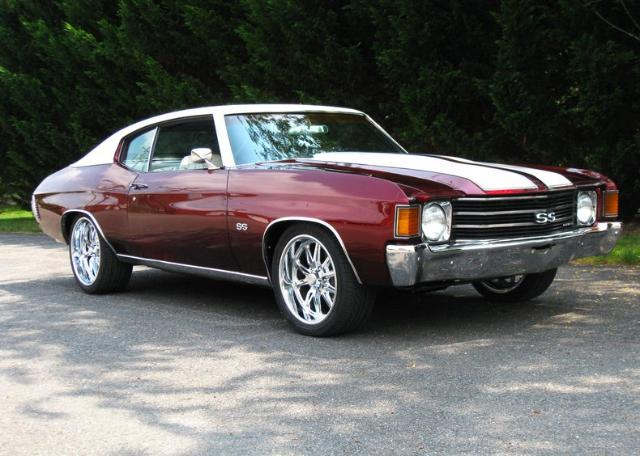chevelle-1972: (31, 106, 621, 336)
